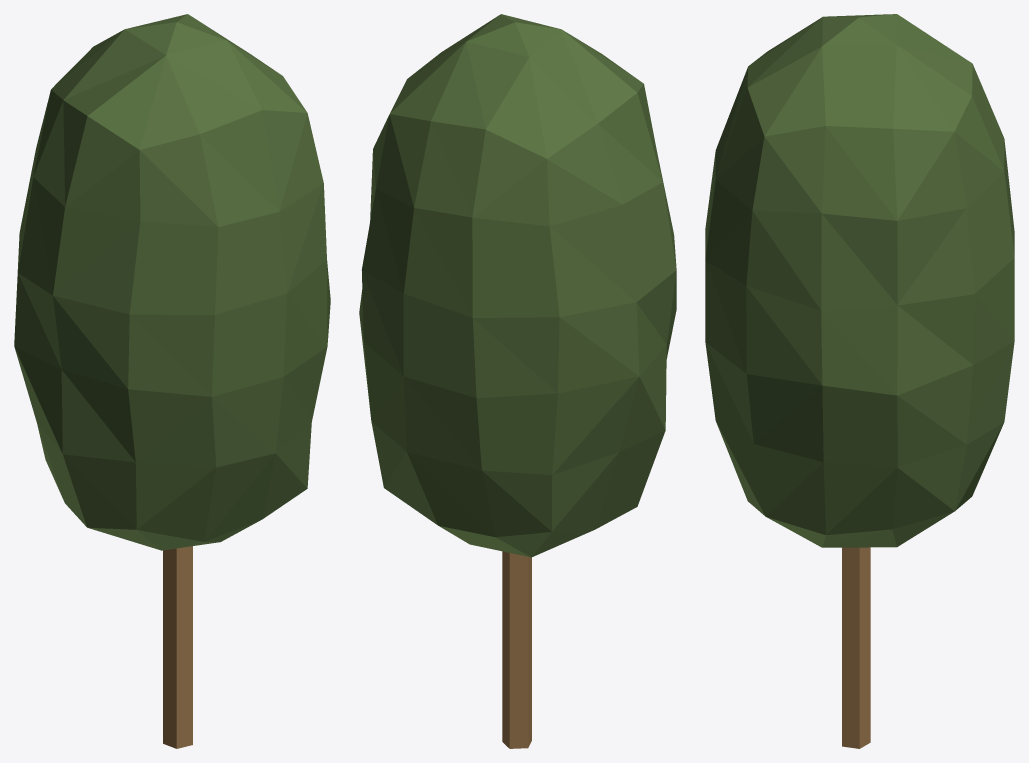
The model's file is tree_10.fbx.
The picture shows the model from 3 angles, left to right: view 1: azimuth 30°, elevation 25°; view 2: azimuth 150°, elevation 25°; view 3: azimuth 270°, elevation 25°; orthographic projection.
Visible parts, largest first — view 1: tree_10; view 2: tree_10; view 3: tree_10.
Boxes of the visible parts, x1,y1,x2,y2 form: tree_10: (14,14,330,748); tree_10: (359,14,676,748); tree_10: (705,14,1014,748).
Size of the model in its own units: 285 by 271 by 700.
